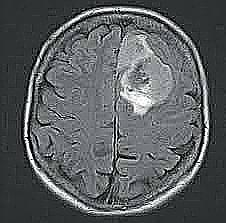Tumor: (110, 28, 178, 119)
